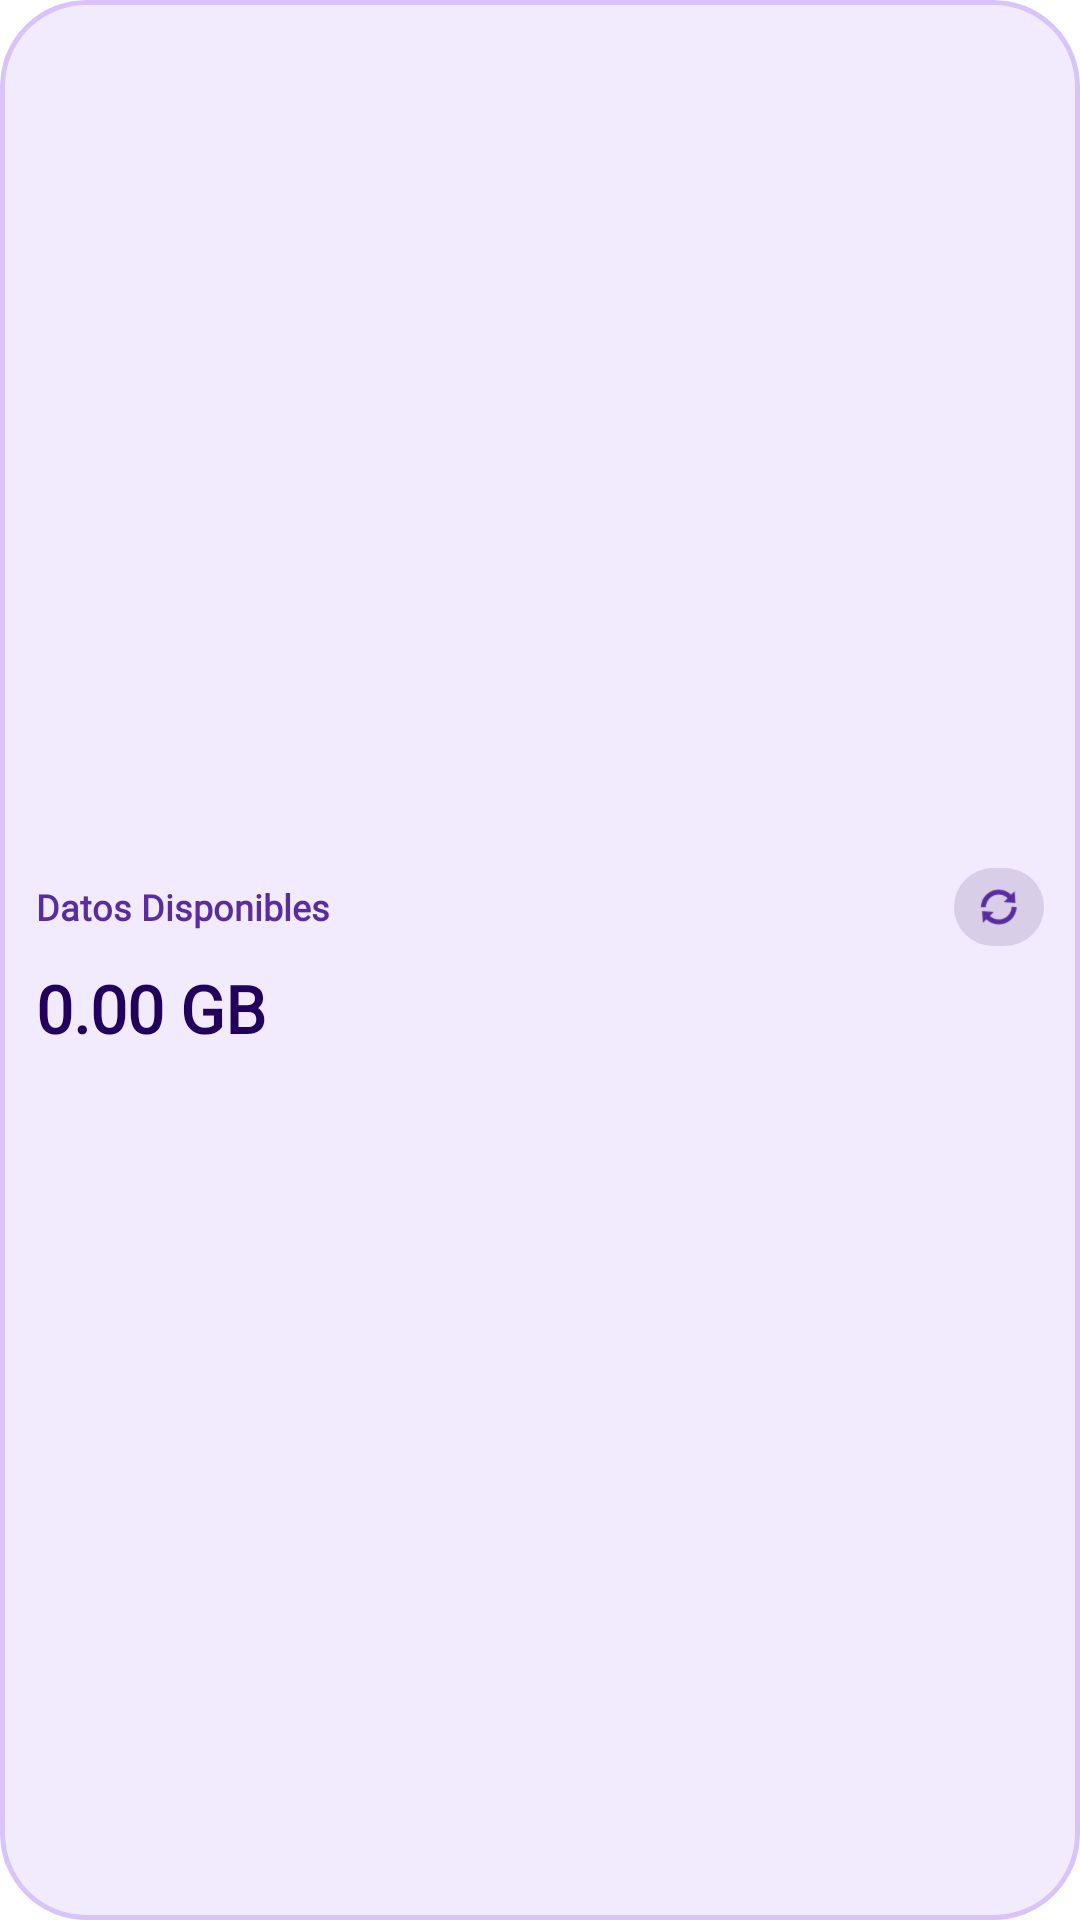

Icons on this 1080×1920 Android screen, each with its box as [x1, y1, x2, y2]:
Actualizar: [954, 868, 1044, 946]
